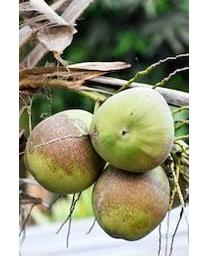coconut: (15, 106, 107, 198), (90, 86, 169, 171), (94, 166, 170, 241)
